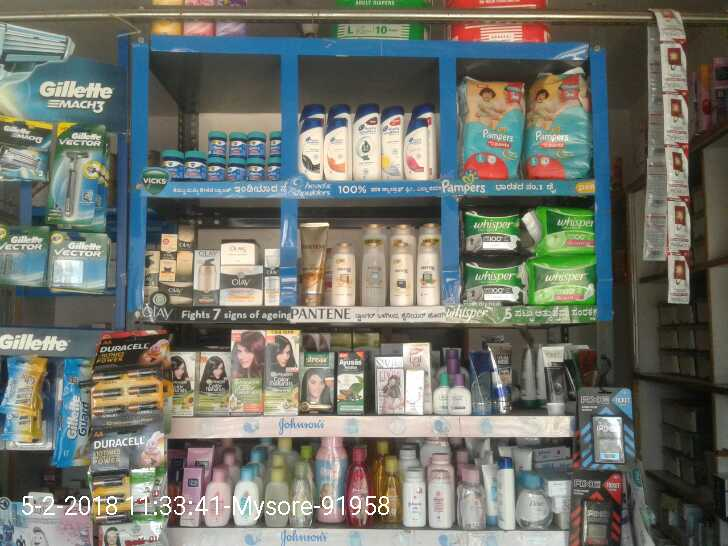beauty: (53, 122, 94, 226), (57, 364, 90, 466), (356, 215, 389, 309), (388, 219, 416, 308), (350, 101, 381, 181), (303, 217, 331, 305), (417, 219, 441, 308), (218, 263, 262, 310), (332, 237, 358, 311), (381, 109, 405, 184), (403, 110, 429, 178), (325, 115, 348, 183), (299, 121, 325, 178), (196, 249, 217, 309), (149, 276, 192, 304), (175, 220, 191, 282), (264, 252, 280, 307)
pharmacy: (459, 85, 530, 175), (529, 71, 584, 171), (536, 200, 592, 257), (463, 257, 528, 303), (531, 261, 594, 307), (461, 205, 521, 253), (182, 148, 209, 181), (161, 148, 187, 179), (204, 130, 229, 159), (242, 127, 263, 161), (223, 155, 246, 182), (227, 131, 245, 158), (264, 157, 281, 185), (207, 158, 225, 183), (265, 129, 281, 154), (247, 160, 264, 181)
